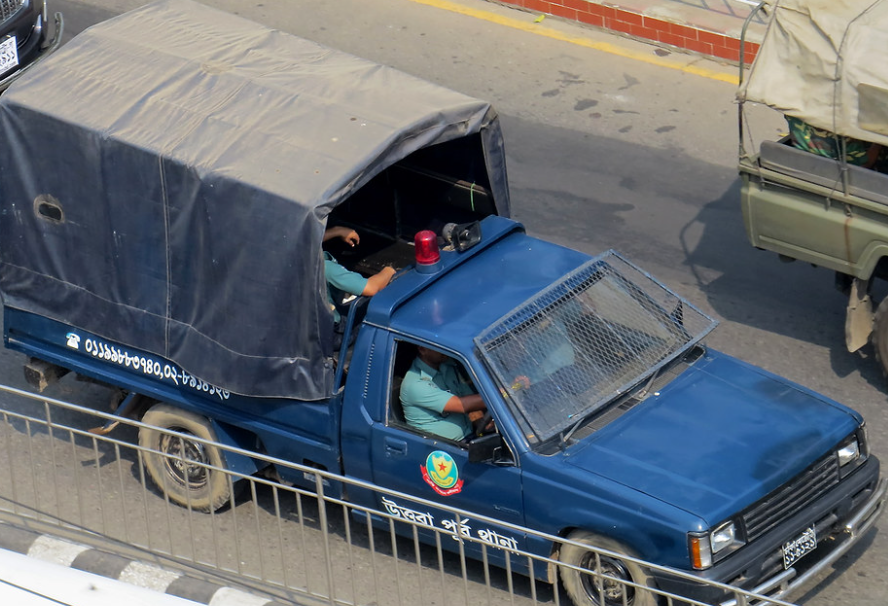Police cars: (4, 0, 886, 605), (724, 0, 888, 353)
